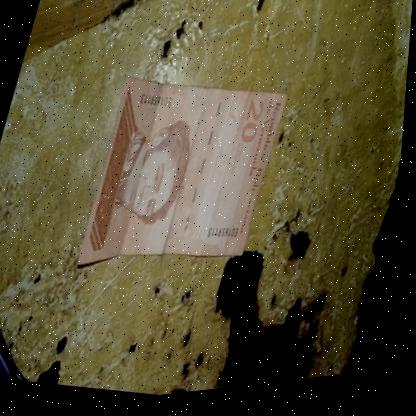twenty-front-vef: (73, 64, 292, 303)
